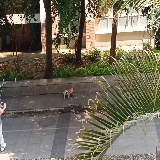fire: (68, 88, 73, 93)
